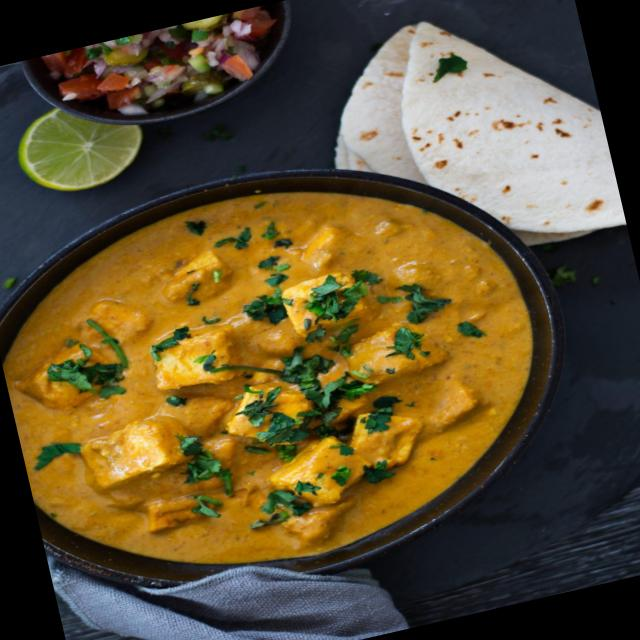roti: (357, 0, 608, 193)
